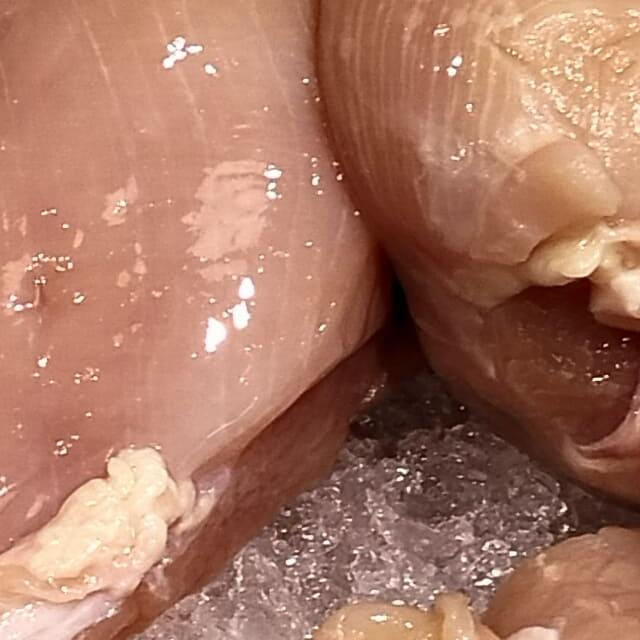chicken: (337, 0, 640, 561), (0, 0, 338, 421), (0, 493, 640, 640)
